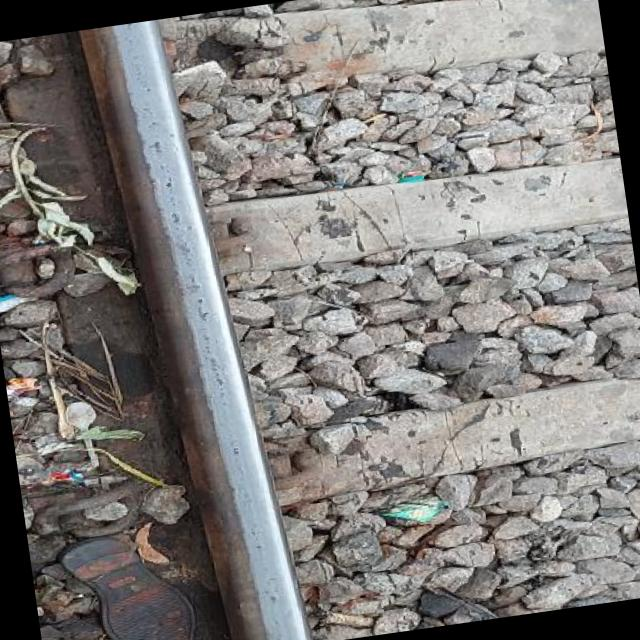non-defective: (59, 0, 413, 640)
